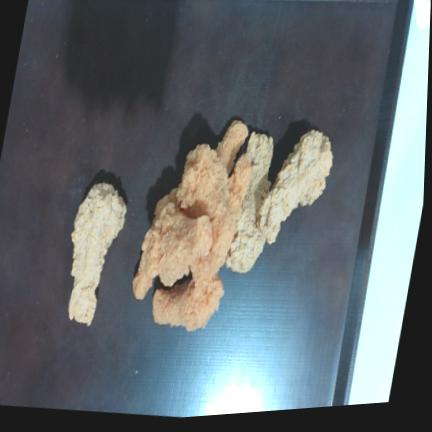chicken: (258, 129, 332, 243), (68, 183, 126, 325), (133, 189, 212, 285), (226, 132, 272, 271), (152, 272, 223, 330), (213, 185, 214, 186)
